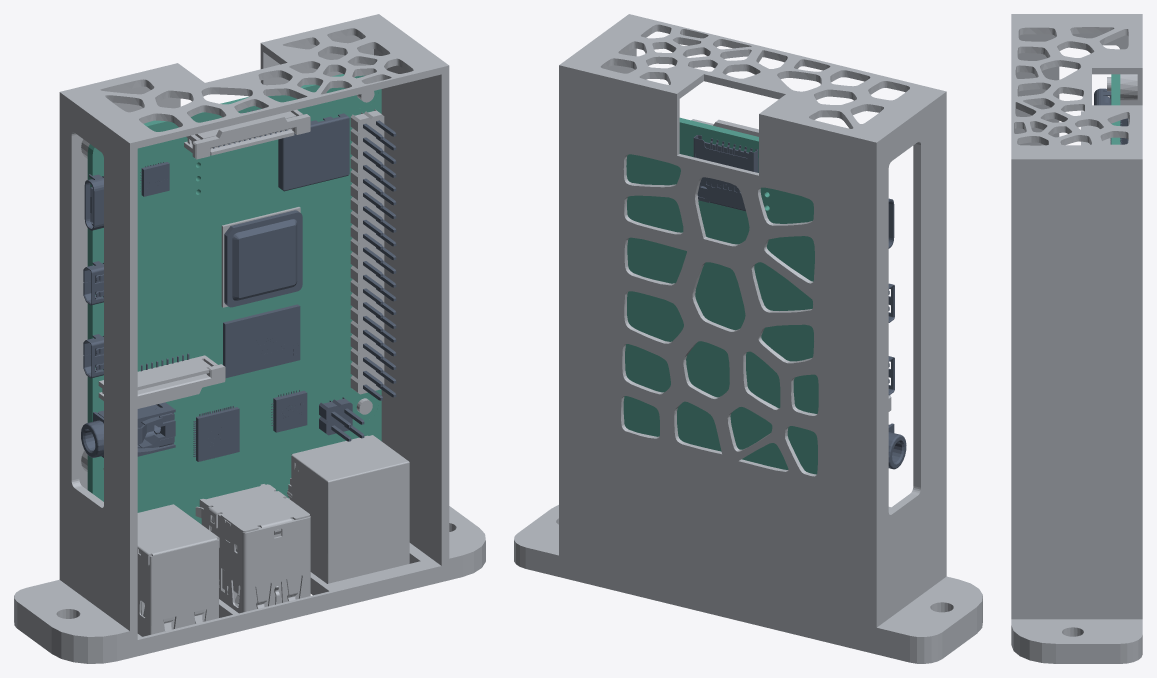
File: qhpc-pi-cad.glb
The picture shows the model from 3 angles, left to right: view 1: azimuth 30°, elevation 25°; view 2: azimuth 150°, elevation 25°; view 3: azimuth 270°, elevation 25°; orthographic projection. The views are drawn at different scales.
Visible parts, largest first — view 1: metal_mesh, pcb_mesh, chip_mesh; view 2: metal_mesh, pcb_mesh, chip_mesh; view 3: metal_mesh, pcb_mesh, chip_mesh.
Boxes of the visible parts, <box> form: metal_mesh: <box>14,14,485,663</box>; pcb_mesh: <box>87,74,381,524</box>; chip_mesh: <box>81,109,396,461</box>; metal_mesh: <box>514,14,982,663</box>; pcb_mesh: <box>623,117,818,474</box>; chip_mesh: <box>693,135,906,469</box>; metal_mesh: <box>1011,14,1142,663</box>; pcb_mesh: <box>1111,74,1120,144</box>; chip_mesh: <box>1094,88,1128,144</box>.
Size of the model in its own units: 0.8285 by 0.9628 by 0.236.
